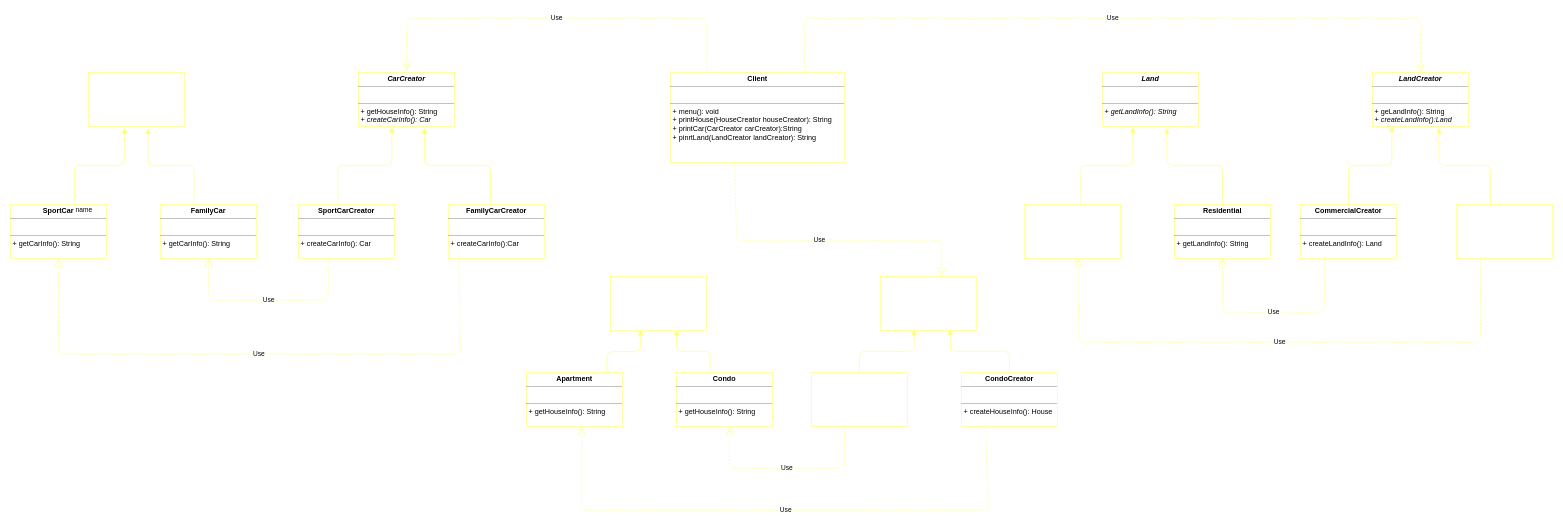
The diagram is 1563 pixels wide and 529 high, and some of its shapes have lost their labels. The centre of each missing label's shape, as x and y in pixels:
"ApartmentCreator + createHouseInfo(): House" belongs at (859,399).
"Car + getHouseInfo(): String" belongs at (136,99).
"Commercial + getLandInfo(): String" belongs at (1072,231).
"House + getHouseInfo(): String" belongs at (658,303).
"HouseCreator + getHouseInfo(): String + createHouseInfo():House" belongs at (928,303).
"ResidentialCreator + createLandInfo(): Land" belongs at (1504,231).
